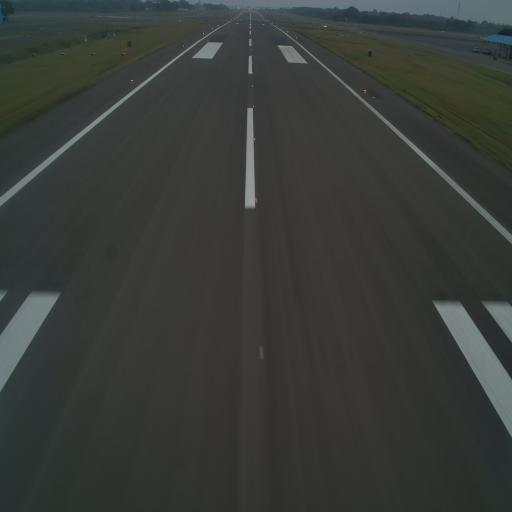off: (254, 337, 265, 366), (315, 51, 317, 55)
on: (254, 196, 258, 204), (130, 78, 134, 84), (253, 136, 255, 141), (364, 89, 366, 93), (251, 71, 253, 75), (252, 84, 254, 88), (182, 44, 184, 48), (251, 62, 253, 65), (253, 104, 254, 109)
